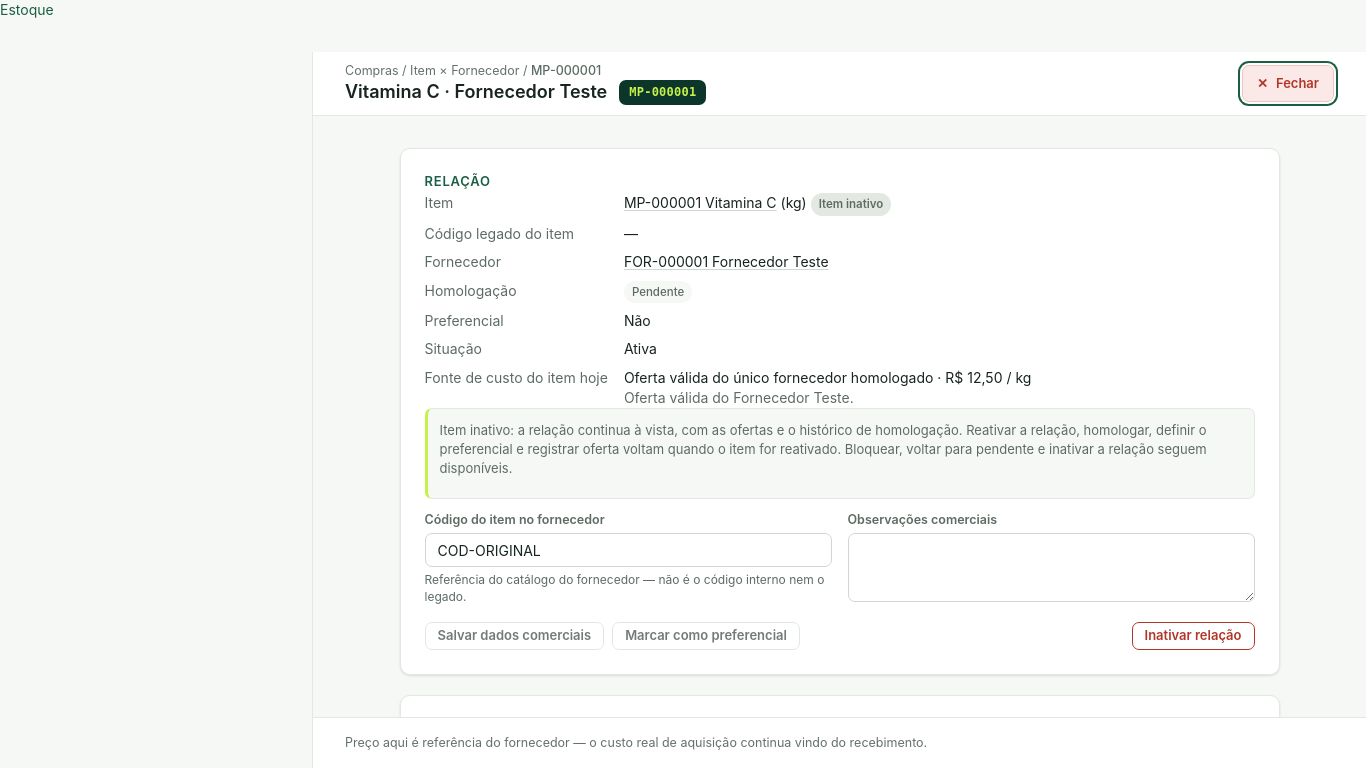
detalhe de Item × Fornecedor — pendência por bloco › salvar os dados comerciais NÃO limpa a oferta ainda digitada
Expected: the heading "Vitamina C · Fornecedor Teste" is shown, left=345, top=81, right=607, bottom=104
Replace the text in the field with id "detail-supplier-item-code" with "COD-NOVO" at (628, 550), box left=424, top=533, right=832, bottom=567
(page scrolled)
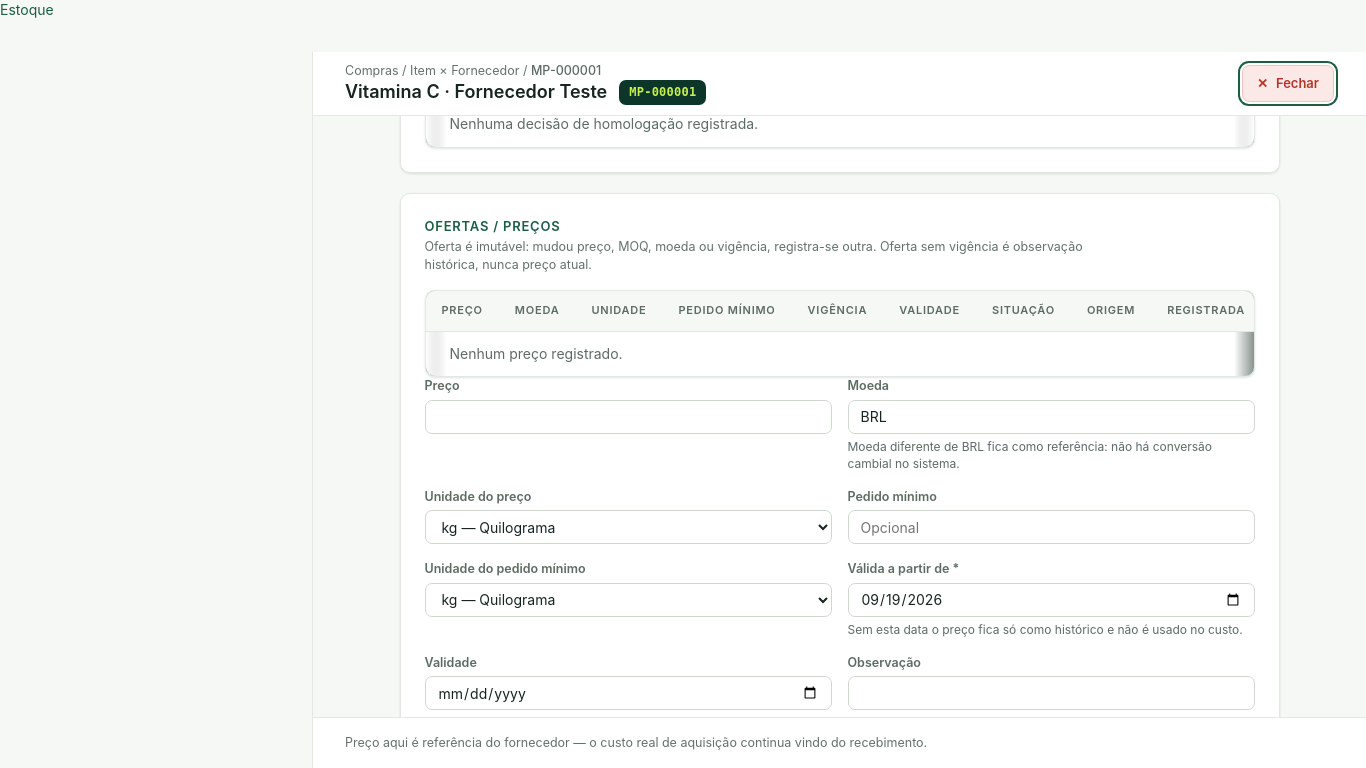
Type "12,50" into the field with id "offer-price" at (628, 416), box left=424, top=400, right=832, bottom=434
(page scrolled)
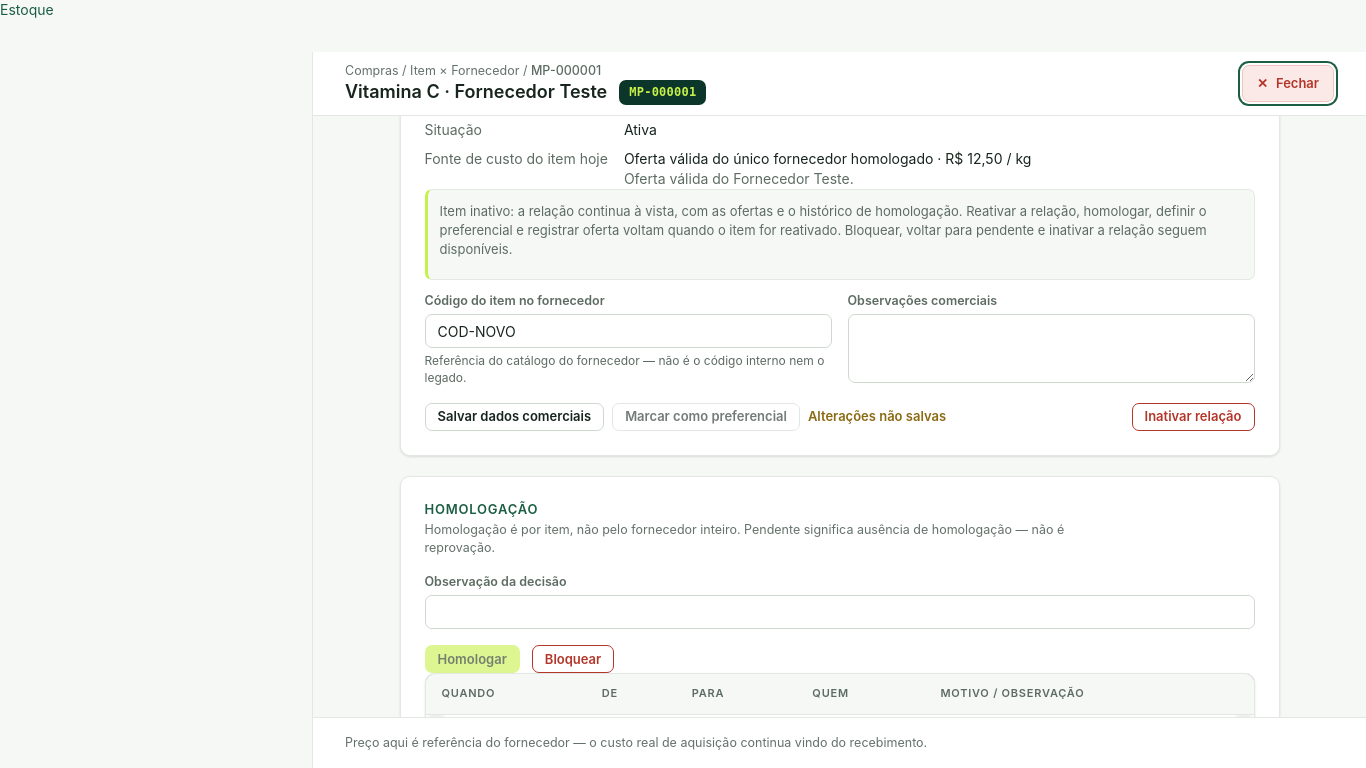
Click the button "Salvar dados comerciais" at (514, 417), box left=424, top=403, right=604, bottom=431
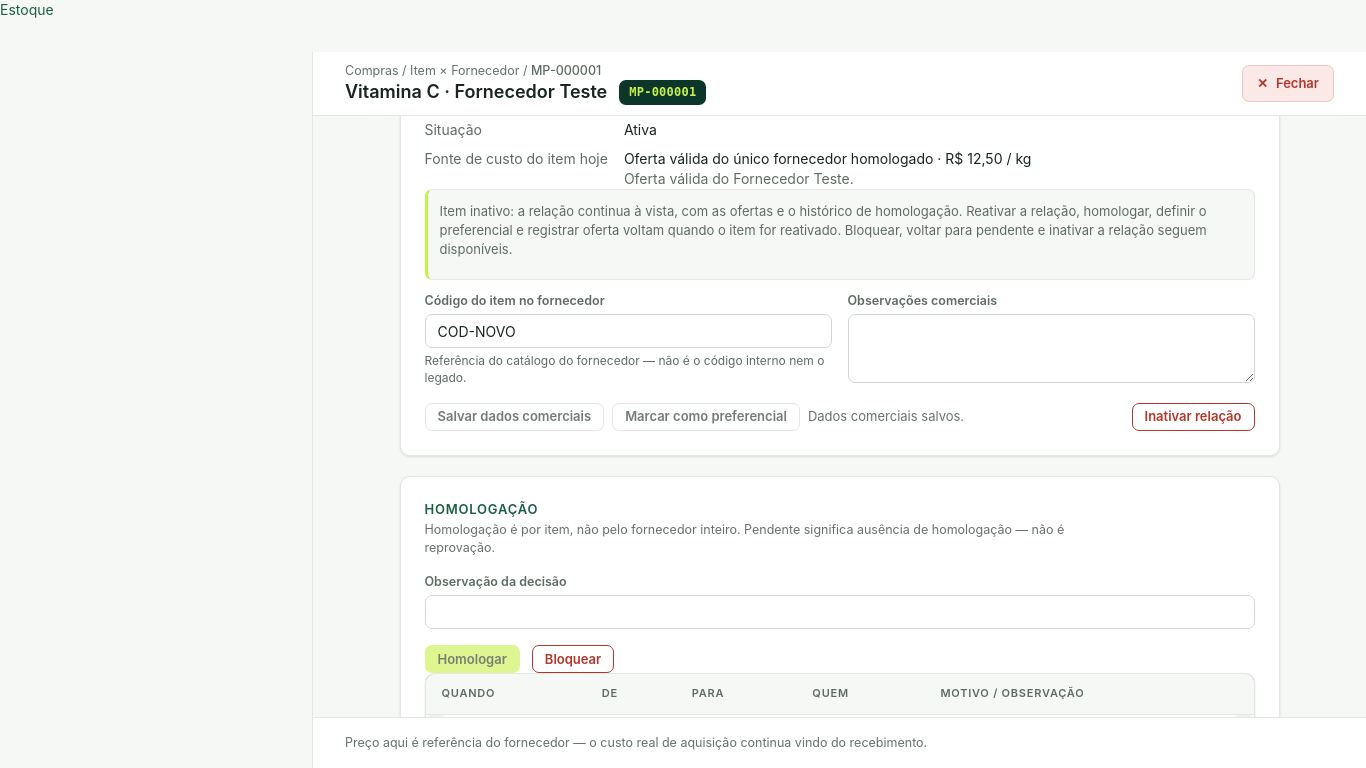
Click the link "Estoque" at (27, 10), box left=0, top=1, right=54, bottom=18
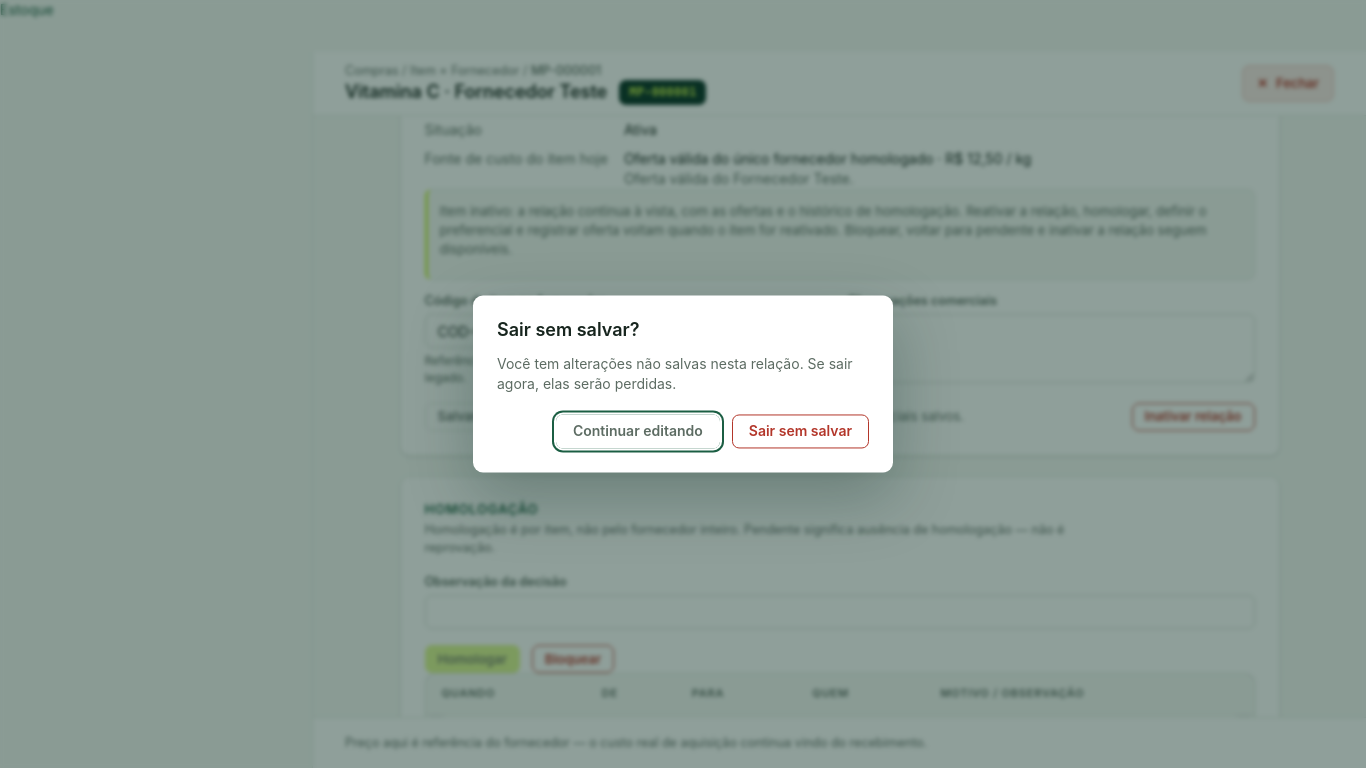
Expected: the heading "Sair sem salvar?" is shown, left=497, top=320, right=640, bottom=340
Click the button "Continuar editando" at (638, 432), box left=556, top=414, right=720, bottom=448
(page scrolled)
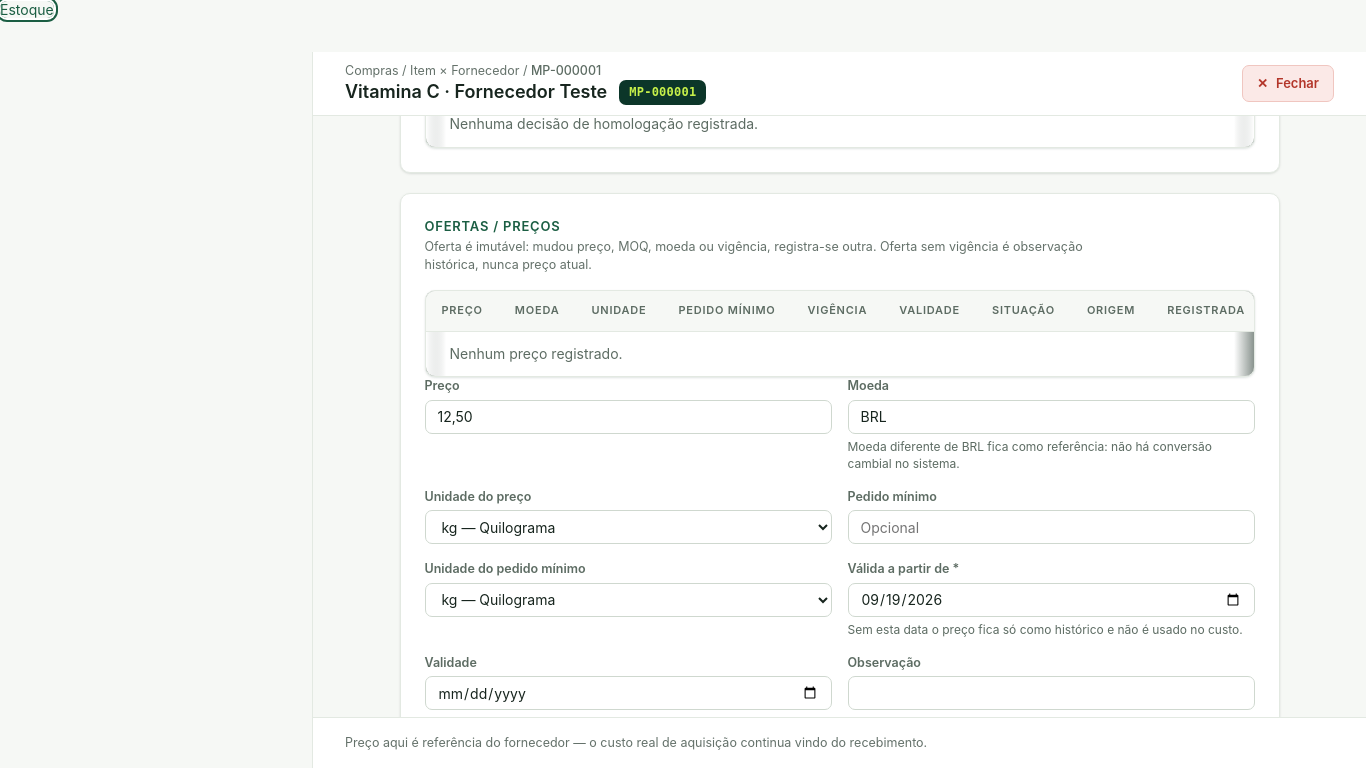
Clear the field with id "offer-price" at (628, 416), box left=424, top=400, right=832, bottom=434
Click the link "Estoque" at (27, 10), box left=0, top=1, right=54, bottom=18
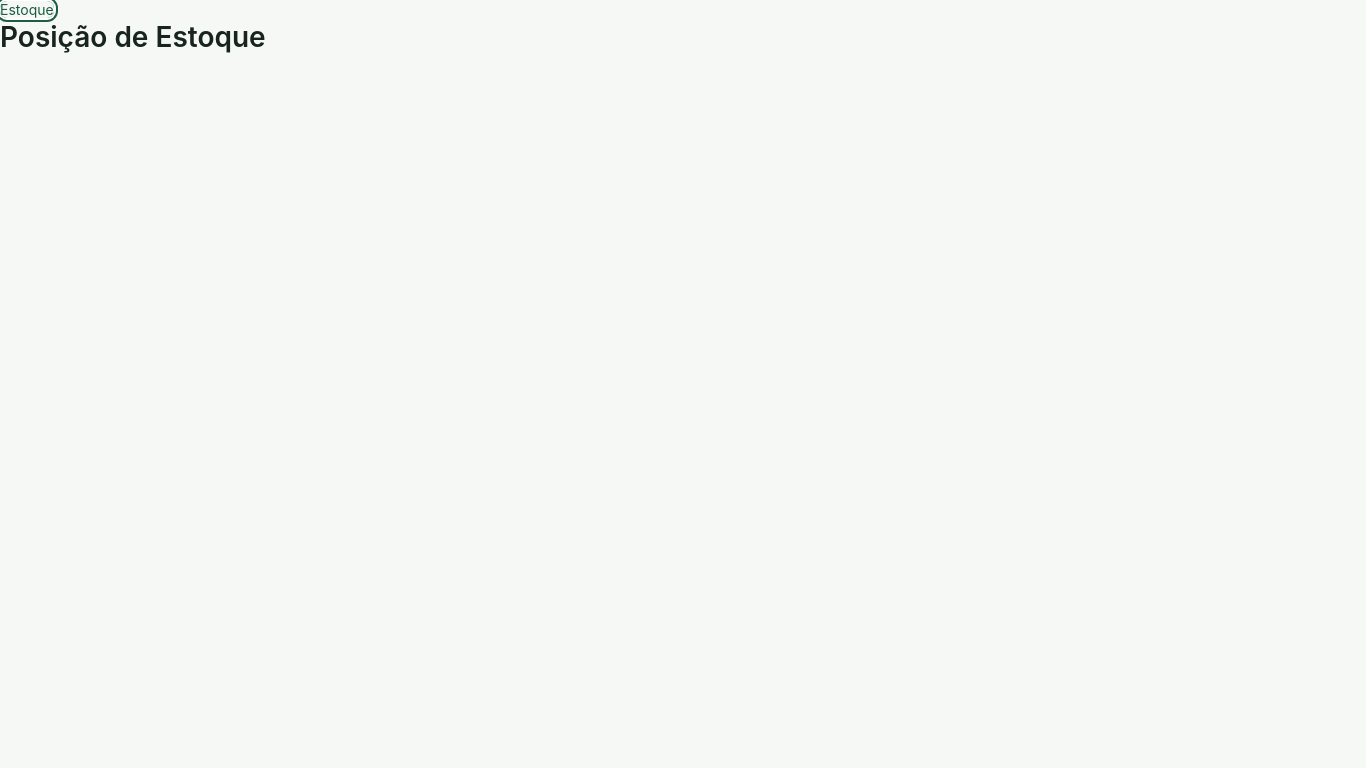
Expected: the heading "Posição de Estoque" is shown, left=0, top=20, right=266, bottom=54
Expected: the dialog is gone
